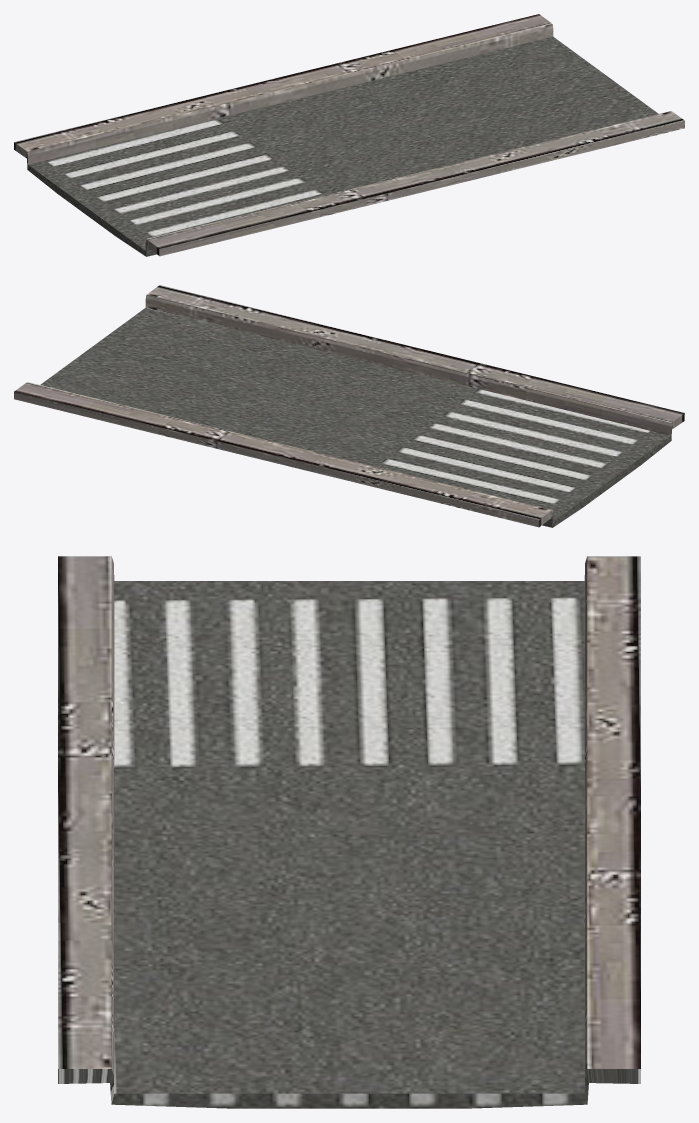
The model's file is calle2monoblock.fbx.
The picture shows the model from 3 angles, top to bottom: view 1: azimuth 30°, elevation 25°; view 2: azimuth 150°, elevation 25°; view 3: azimuth 270°, elevation 25°; orthographic projection. The views are drawn at different scales.
Parts seen in each view (by area): view 1: 4in 2.008; view 2: 4in 2.008; view 3: 4in 2.008.
Part boxes in pixels (x1,y1,x2,y2): 4in 2.008: (14, 14, 684, 256); 4in 2.008: (14, 285, 684, 527); 4in 2.008: (58, 556, 640, 1108).
Bounding box in the file's own units: 563 × 20.34 × 271.
Materials: 1 (1 with a texture image).
